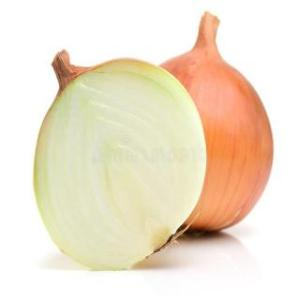onion: (32, 47, 206, 268), (135, 16, 273, 234)
